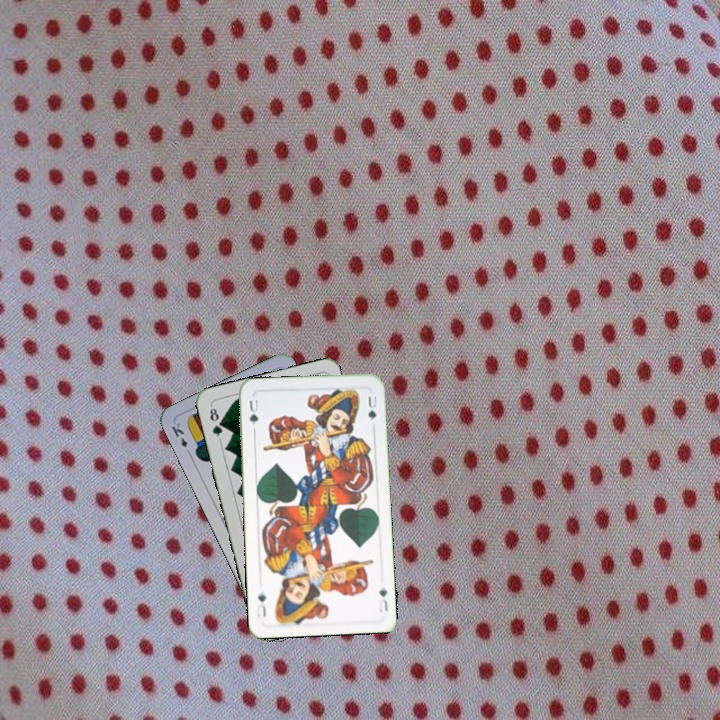EK: (167, 419, 194, 458)
G8: (205, 402, 225, 442)
GU: (245, 395, 261, 427), (374, 584, 390, 615)
